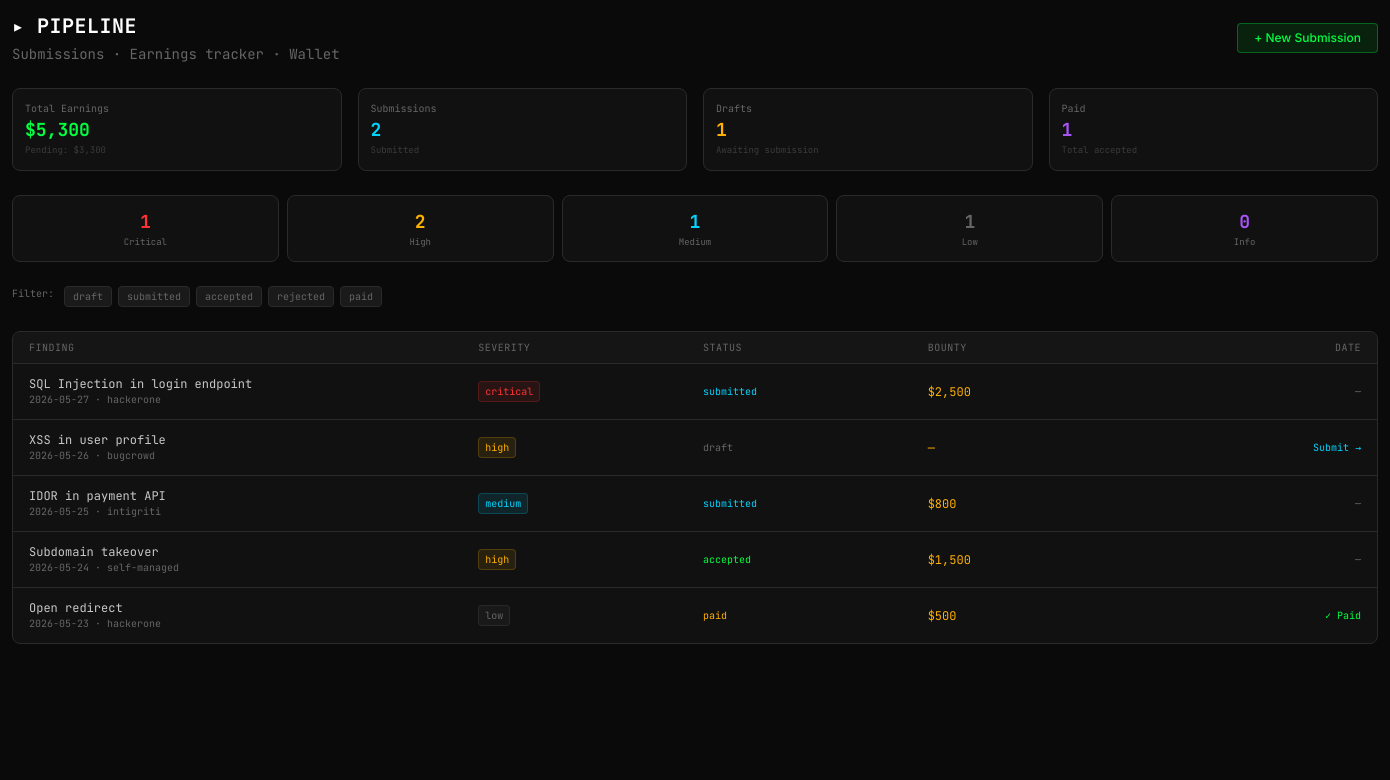
Test: PipelinePage › filters submissions by severity
Click the "critical" severity header row
Step 1. Click the 1st text "critical" → {"x": 145, "y": 242}, box [124,236,167,248]
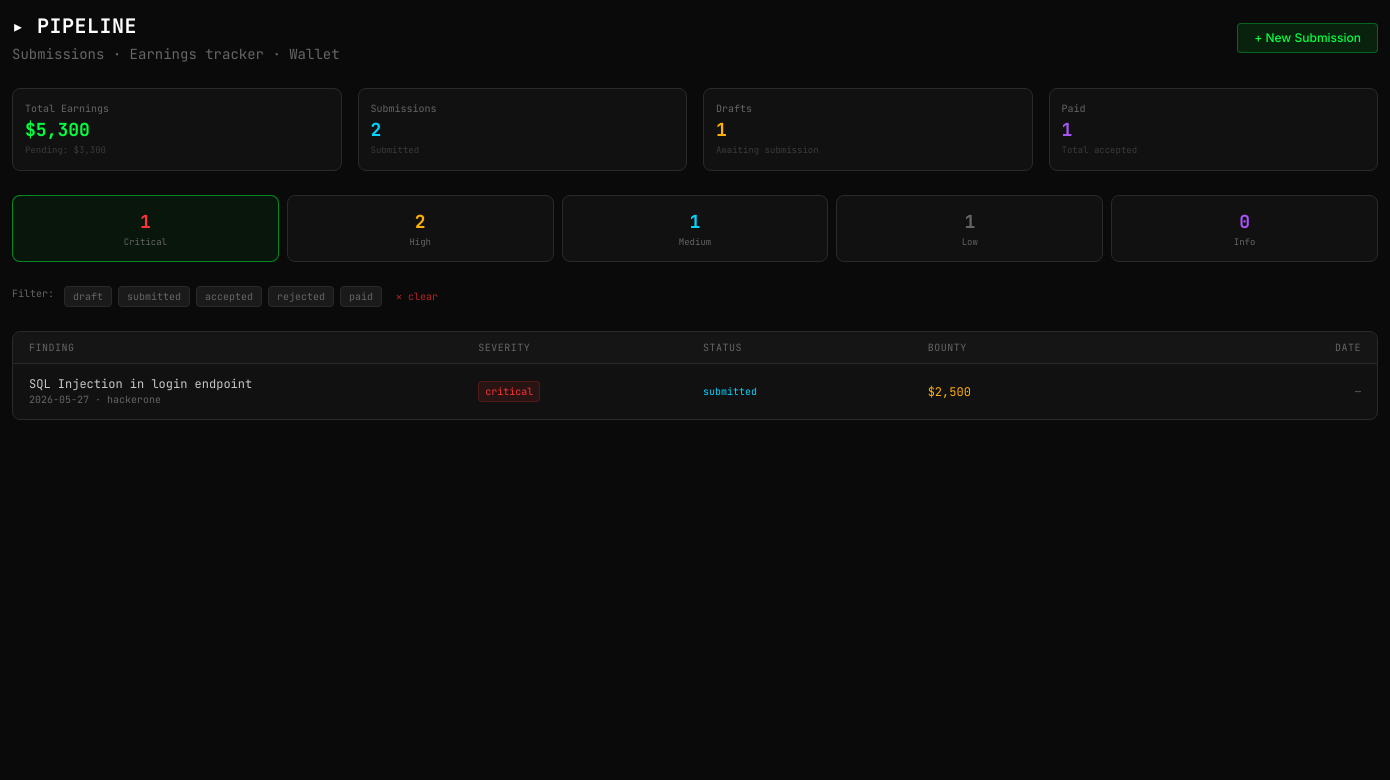
Expected: the text "SQL Injection in login endpoint" is shown, [29,376,252,392]
Result: the text "Open redirect" is gone
